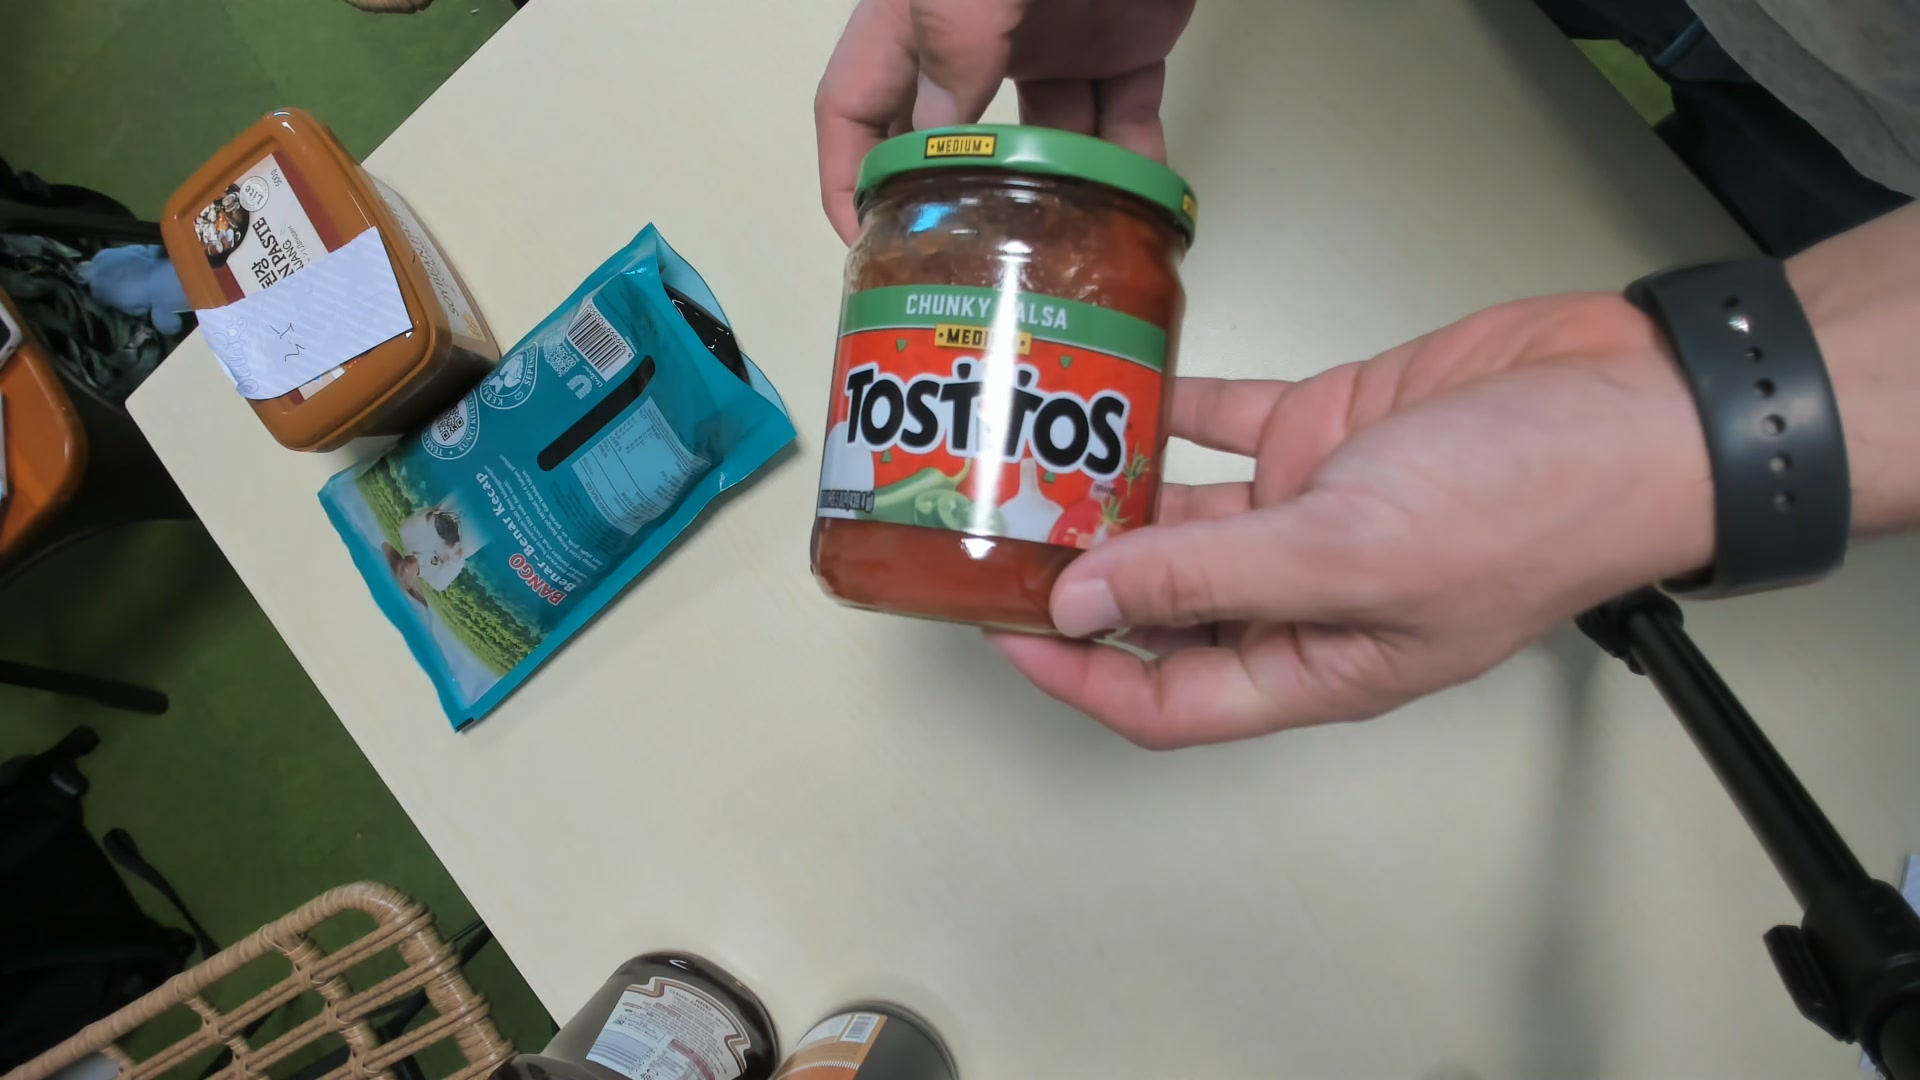OtherSauceDressing_400-499g_NonHalal_NonHealthy: (818, 124, 1203, 649)
